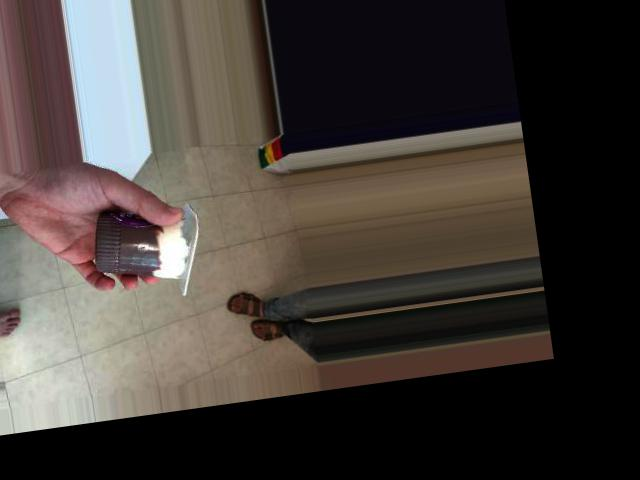milky: (84, 205, 208, 288)
